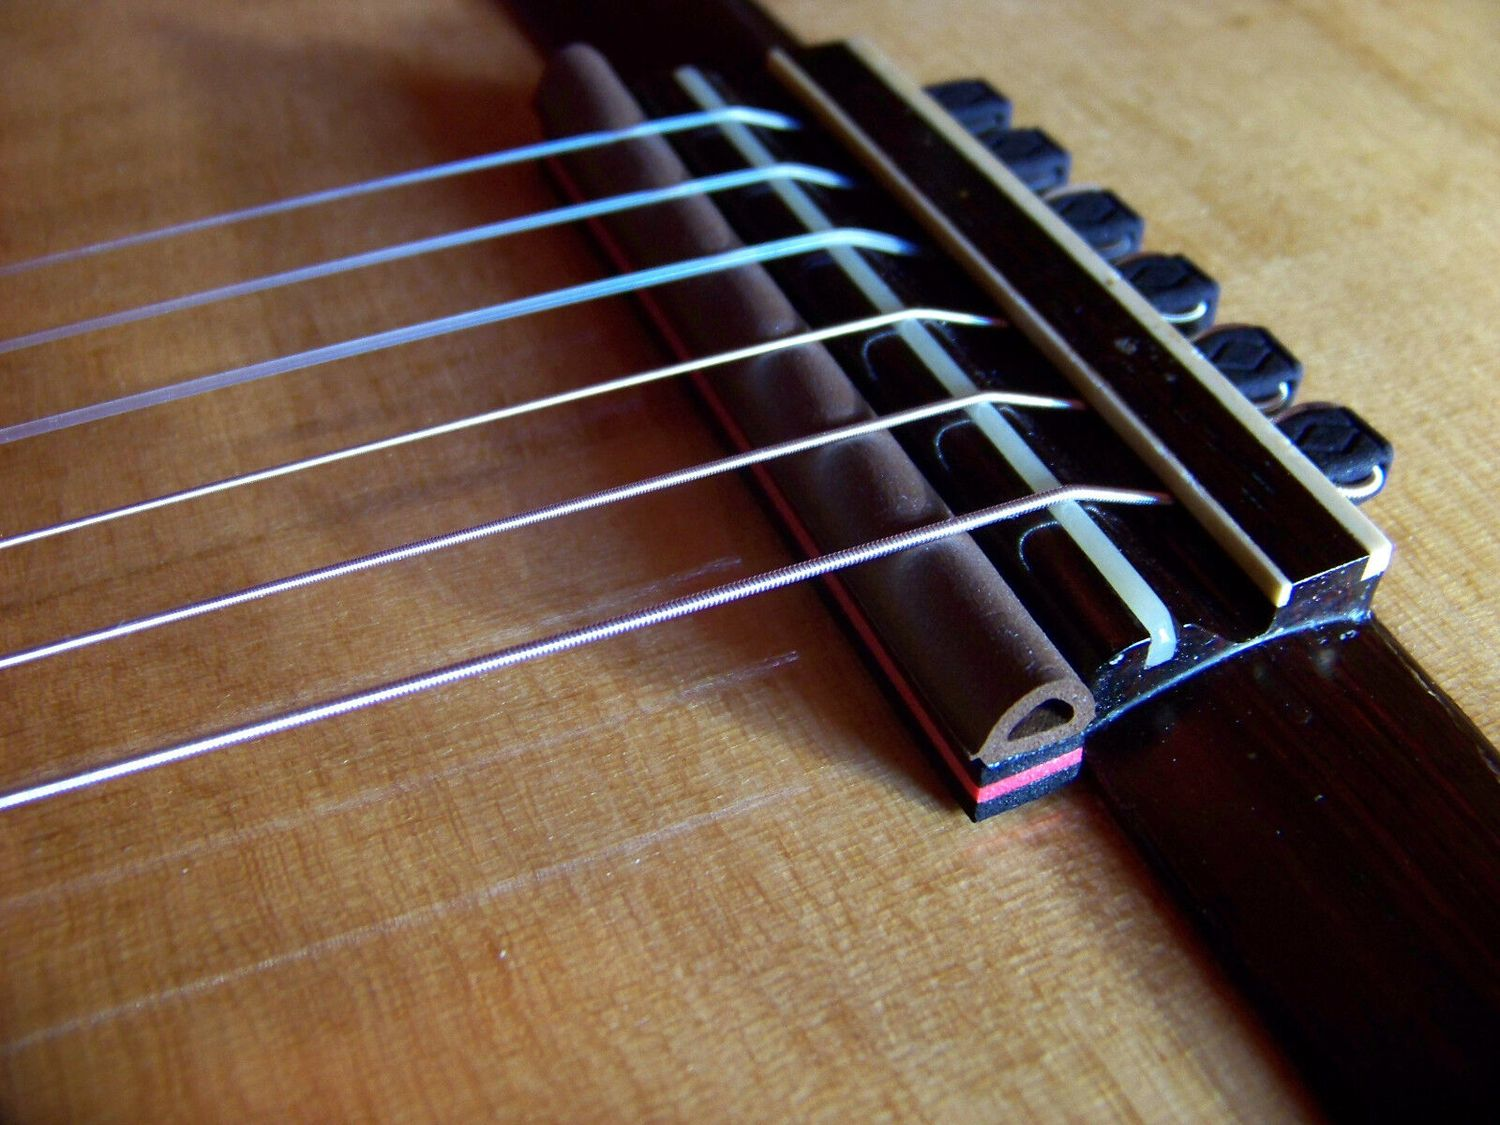guitar: (158, 5, 1398, 841)
